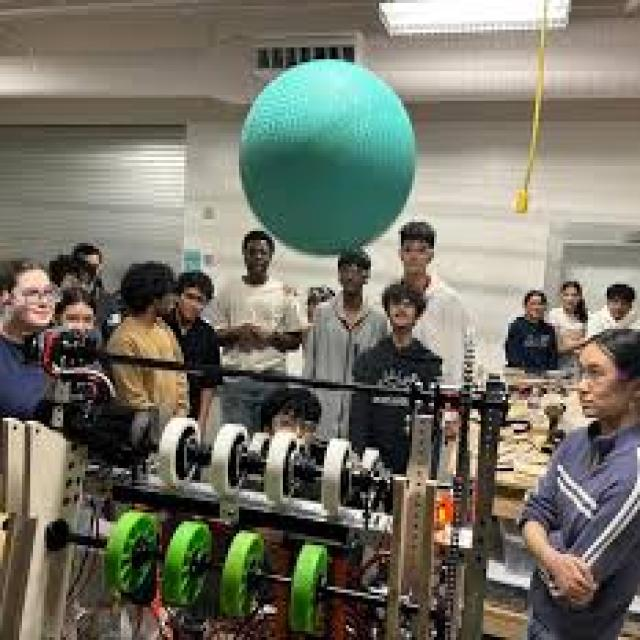algae: (239, 59, 420, 261)
